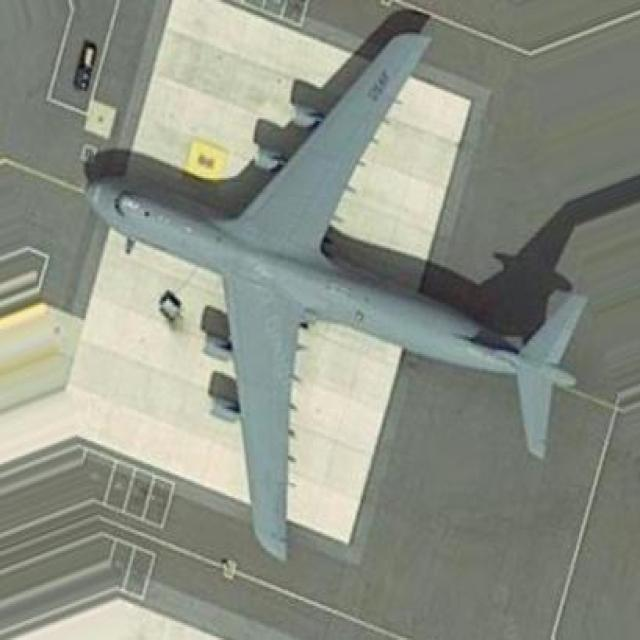C-5_TopDown: (78, 6, 594, 562)
